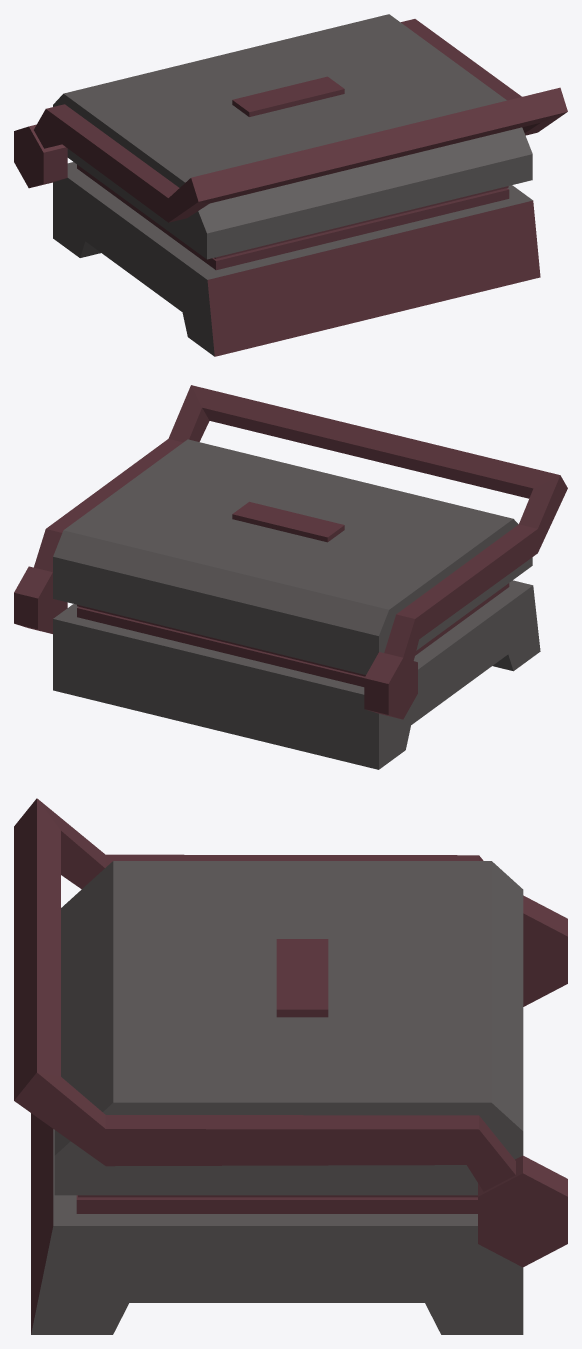
Rendered from small-grill.fbx.
3 views of the same model, one above another, from view 1: azimuth 30°, elevation 25°; view 2: azimuth 150°, elevation 25°; view 3: azimuth 270°, elevation 25° (orthographic). The views are drawn at different scales.
Visible parts, largest first — view 1: small-grill-top, small-grill-base; view 2: small-grill-top, small-grill-base; view 3: small-grill-top, small-grill-base.
Boxes of the visible parts, x1=… form: small-grill-top: x1=14, y1=14, x2=567, y2=259; small-grill-base: x1=53, y1=162, x2=540, y2=356; small-grill-top: x1=14, y1=385, x2=567, y2=719; small-grill-base: x1=53, y1=580, x2=540, y2=769; small-grill-top: x1=14, y1=798, x2=567, y2=1267; small-grill-base: x1=31, y1=1113, x2=523, y2=1334.
Size of the model in its own units: 0.4692 by 0.2192 by 0.395.
